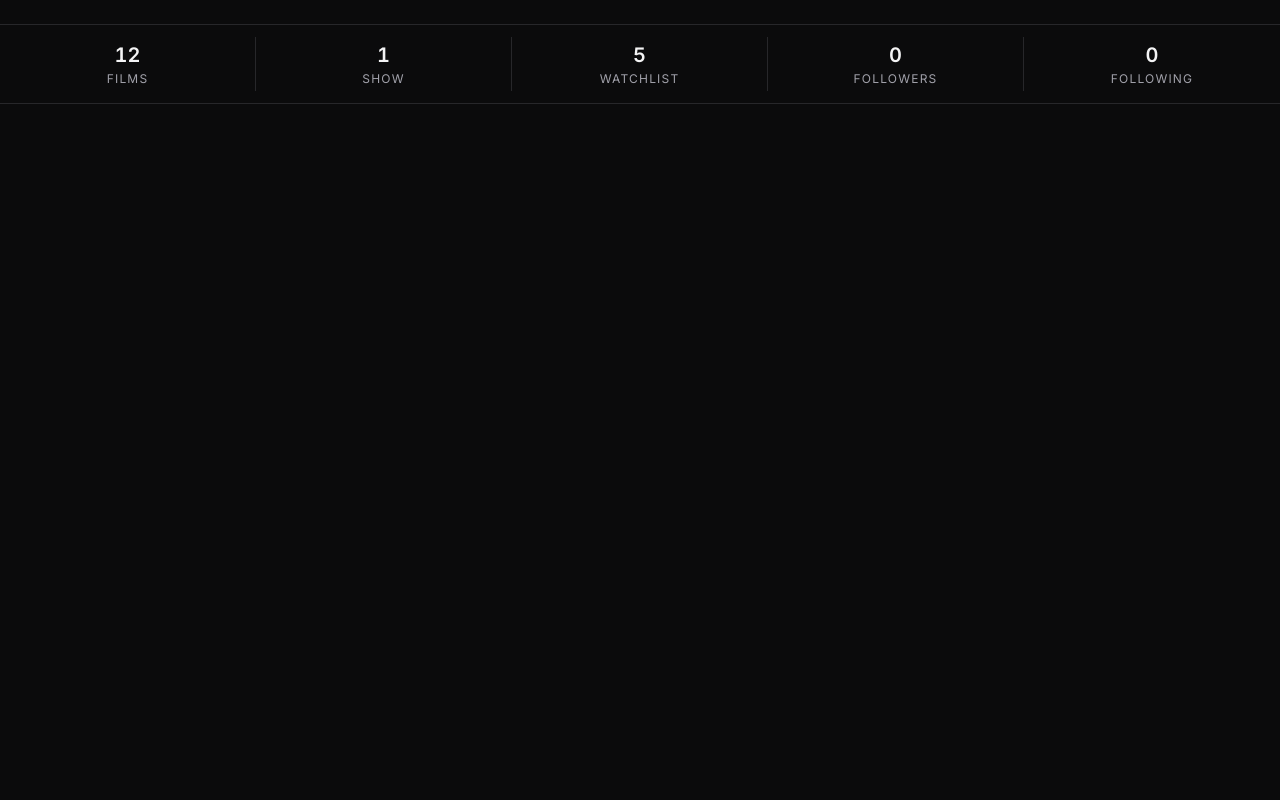
Test: ProfileStats › shows an empty state when the list is empty
Click the button "0 Following" at (1152, 64), box [1028,37,1276,91]
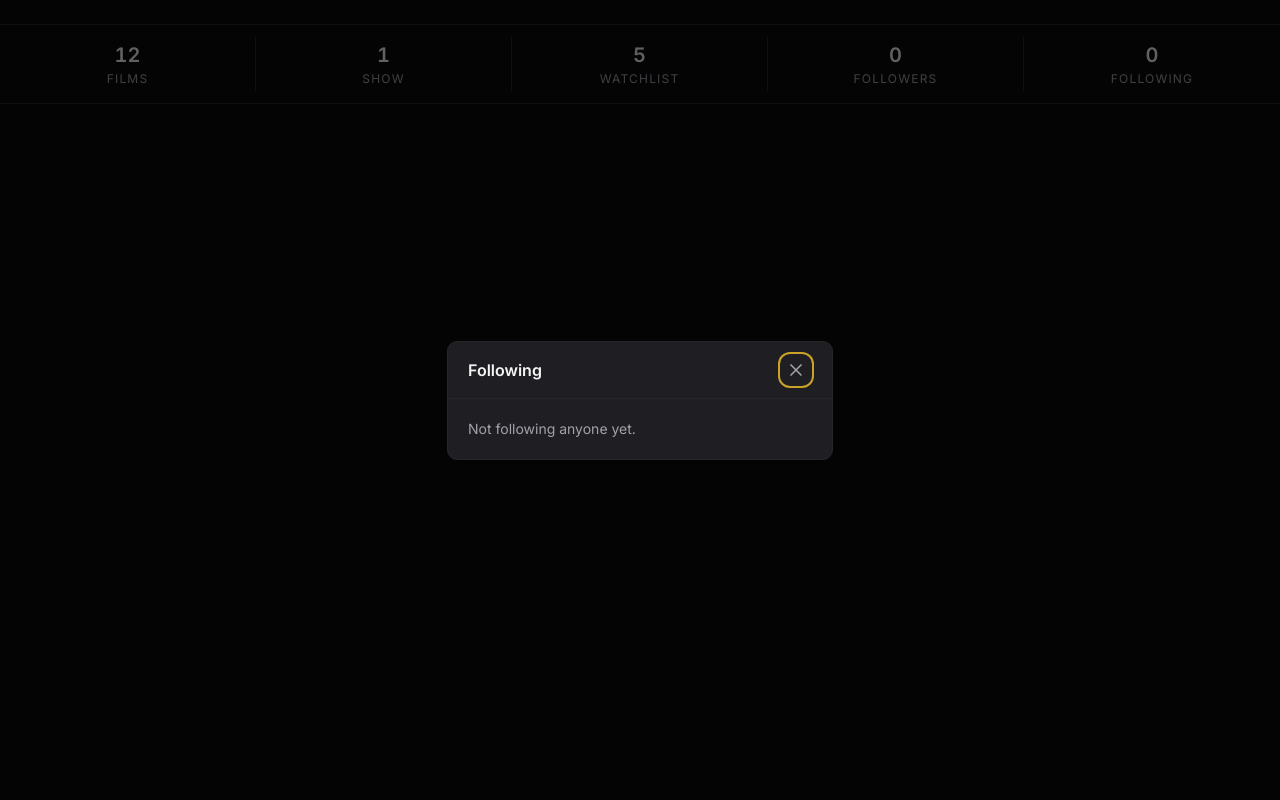
Check: the text "Not following anyone yet." is shown, box [468,420,636,436]
